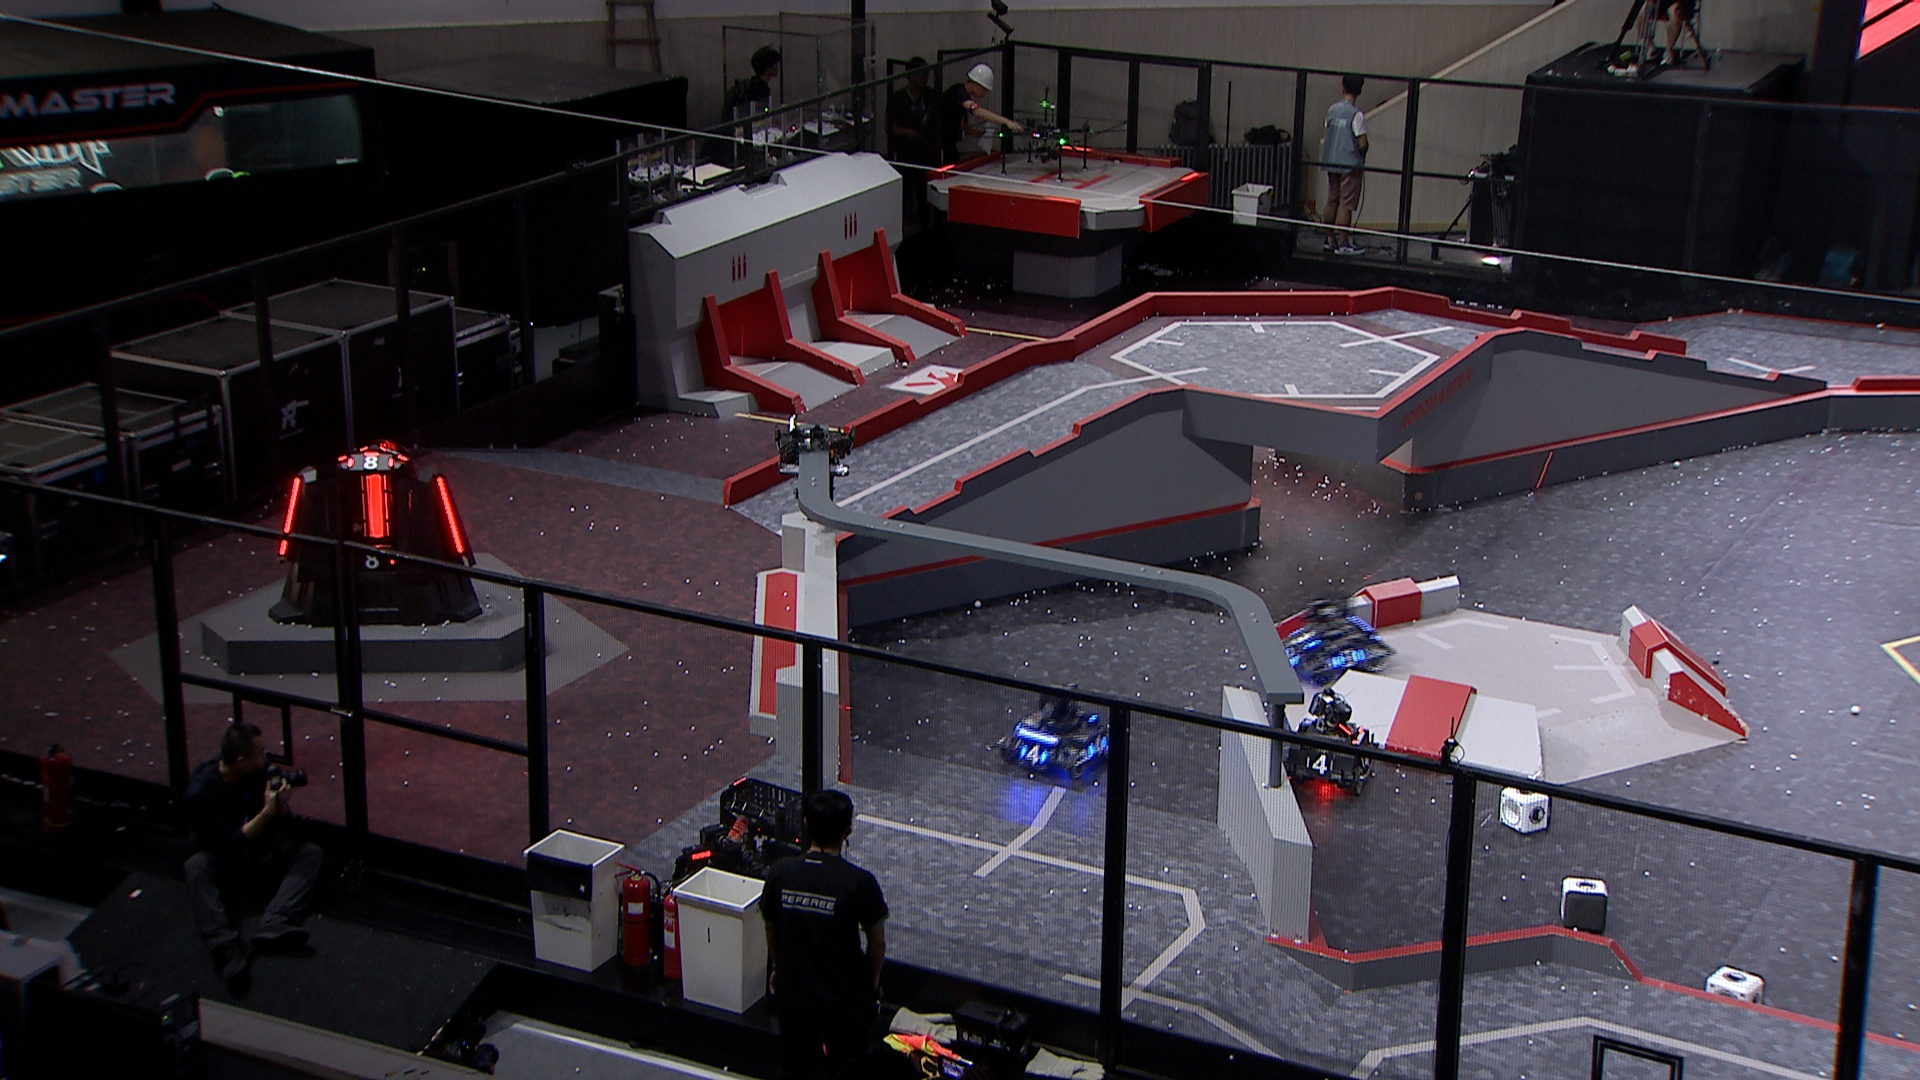armor: (433, 473, 467, 553), (276, 473, 302, 555), (363, 471, 390, 538), (343, 450, 396, 472), (357, 547, 394, 571), (1329, 646, 1366, 669), (1021, 738, 1048, 767), (1084, 731, 1110, 760), (1304, 752, 1337, 774), (1288, 626, 1320, 647), (1282, 644, 1305, 669), (1357, 752, 1373, 771)
base: (264, 439, 491, 632)
car: (673, 779, 831, 922), (1000, 676, 1120, 785), (1280, 687, 1379, 796), (1276, 595, 1396, 684)
watcher: (773, 413, 858, 508)
